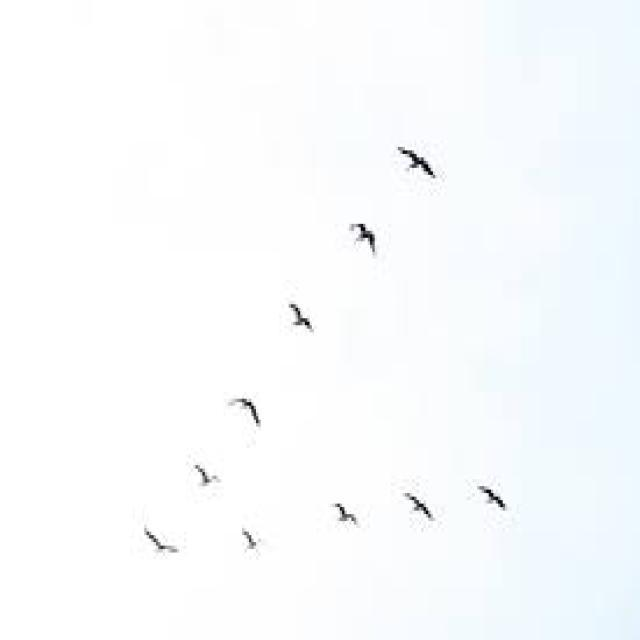bird: (450, 382, 510, 520), (119, 482, 191, 580), (382, 120, 452, 194), (214, 367, 270, 458), (277, 252, 326, 350), (397, 466, 452, 538), (229, 495, 271, 579), (328, 479, 377, 546), (349, 202, 391, 276), (165, 457, 219, 512)
